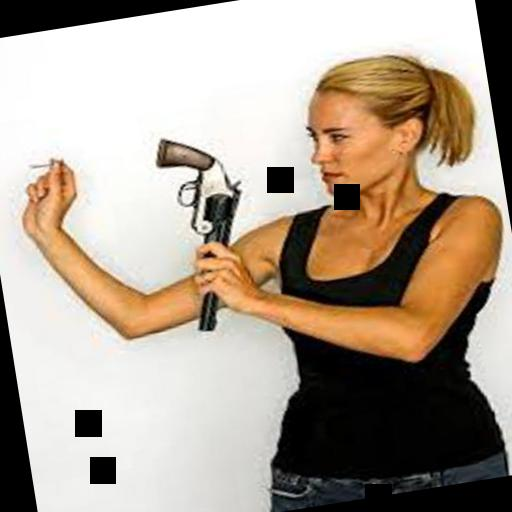Handgun: (140, 123, 258, 337)
